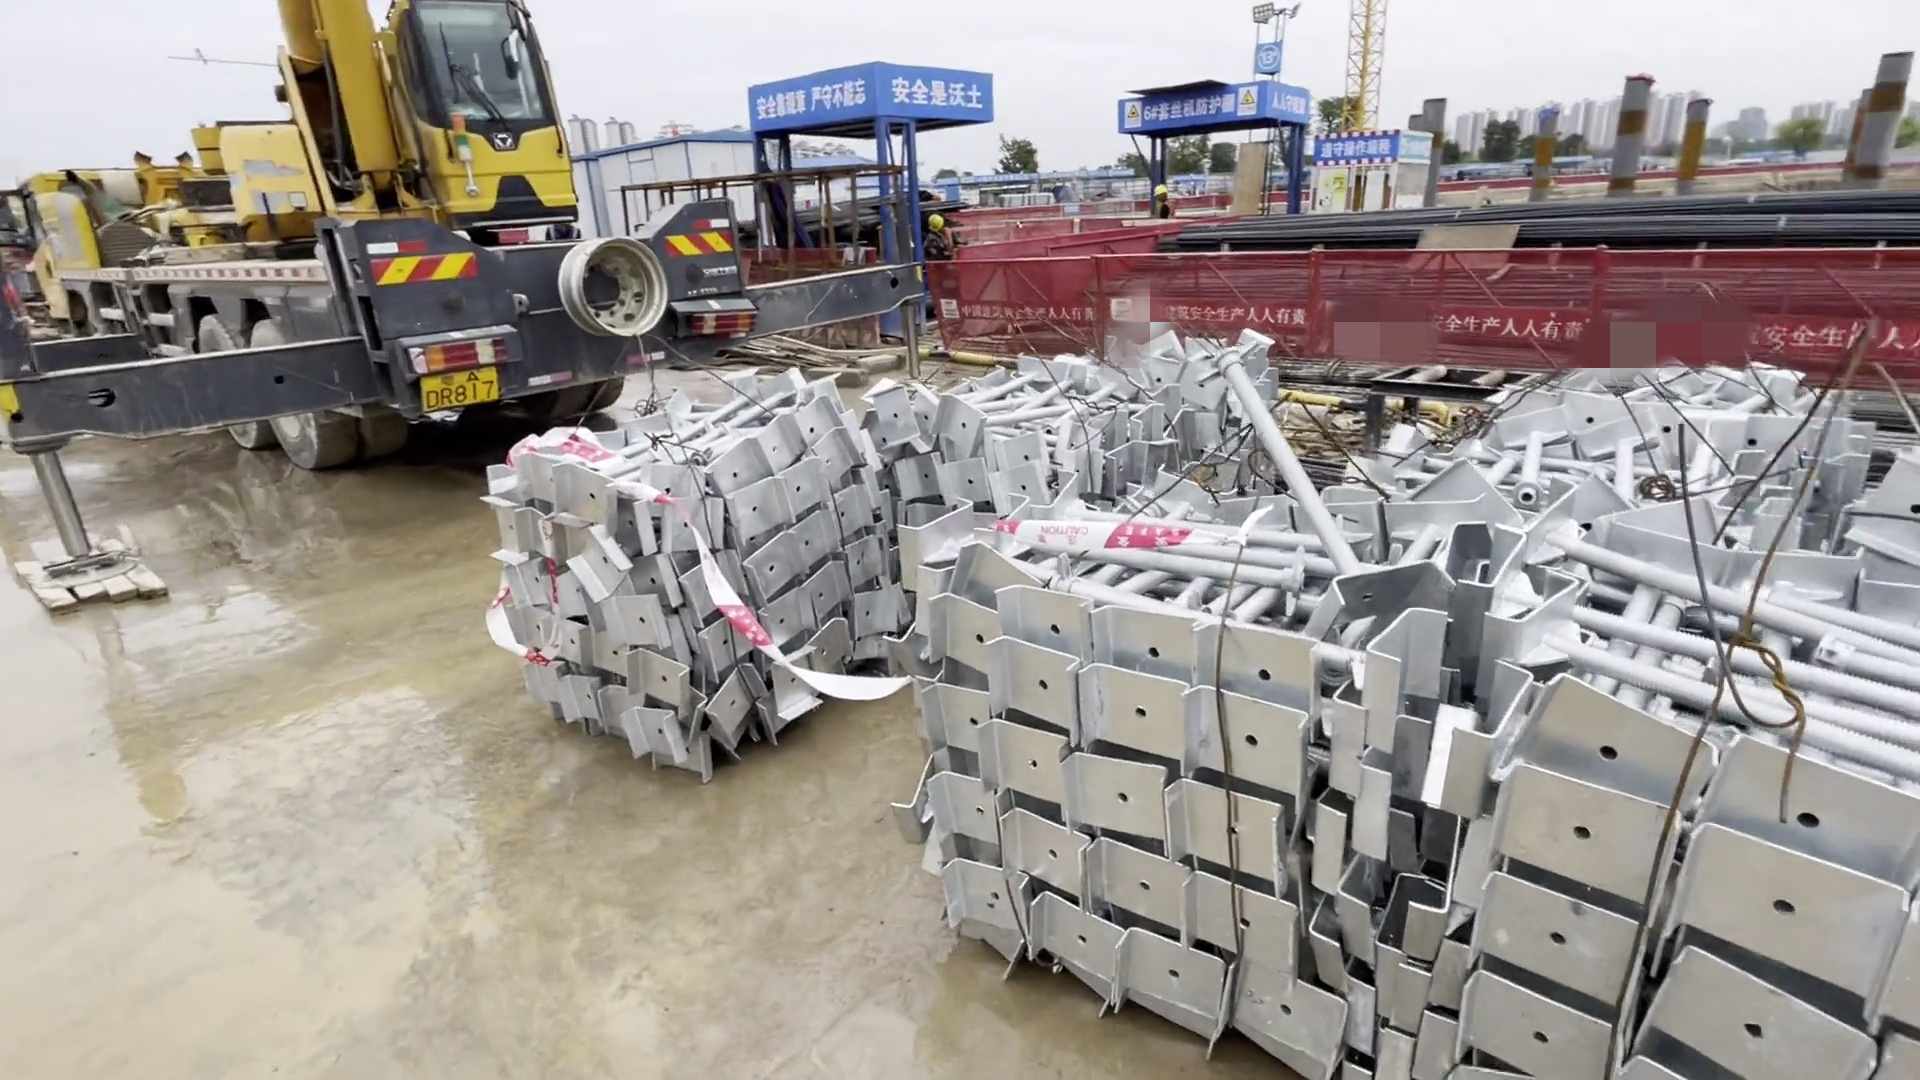fence: (915, 244, 1899, 378)
slogan: (745, 73, 992, 125), (1112, 92, 1305, 125), (1312, 133, 1395, 164)
